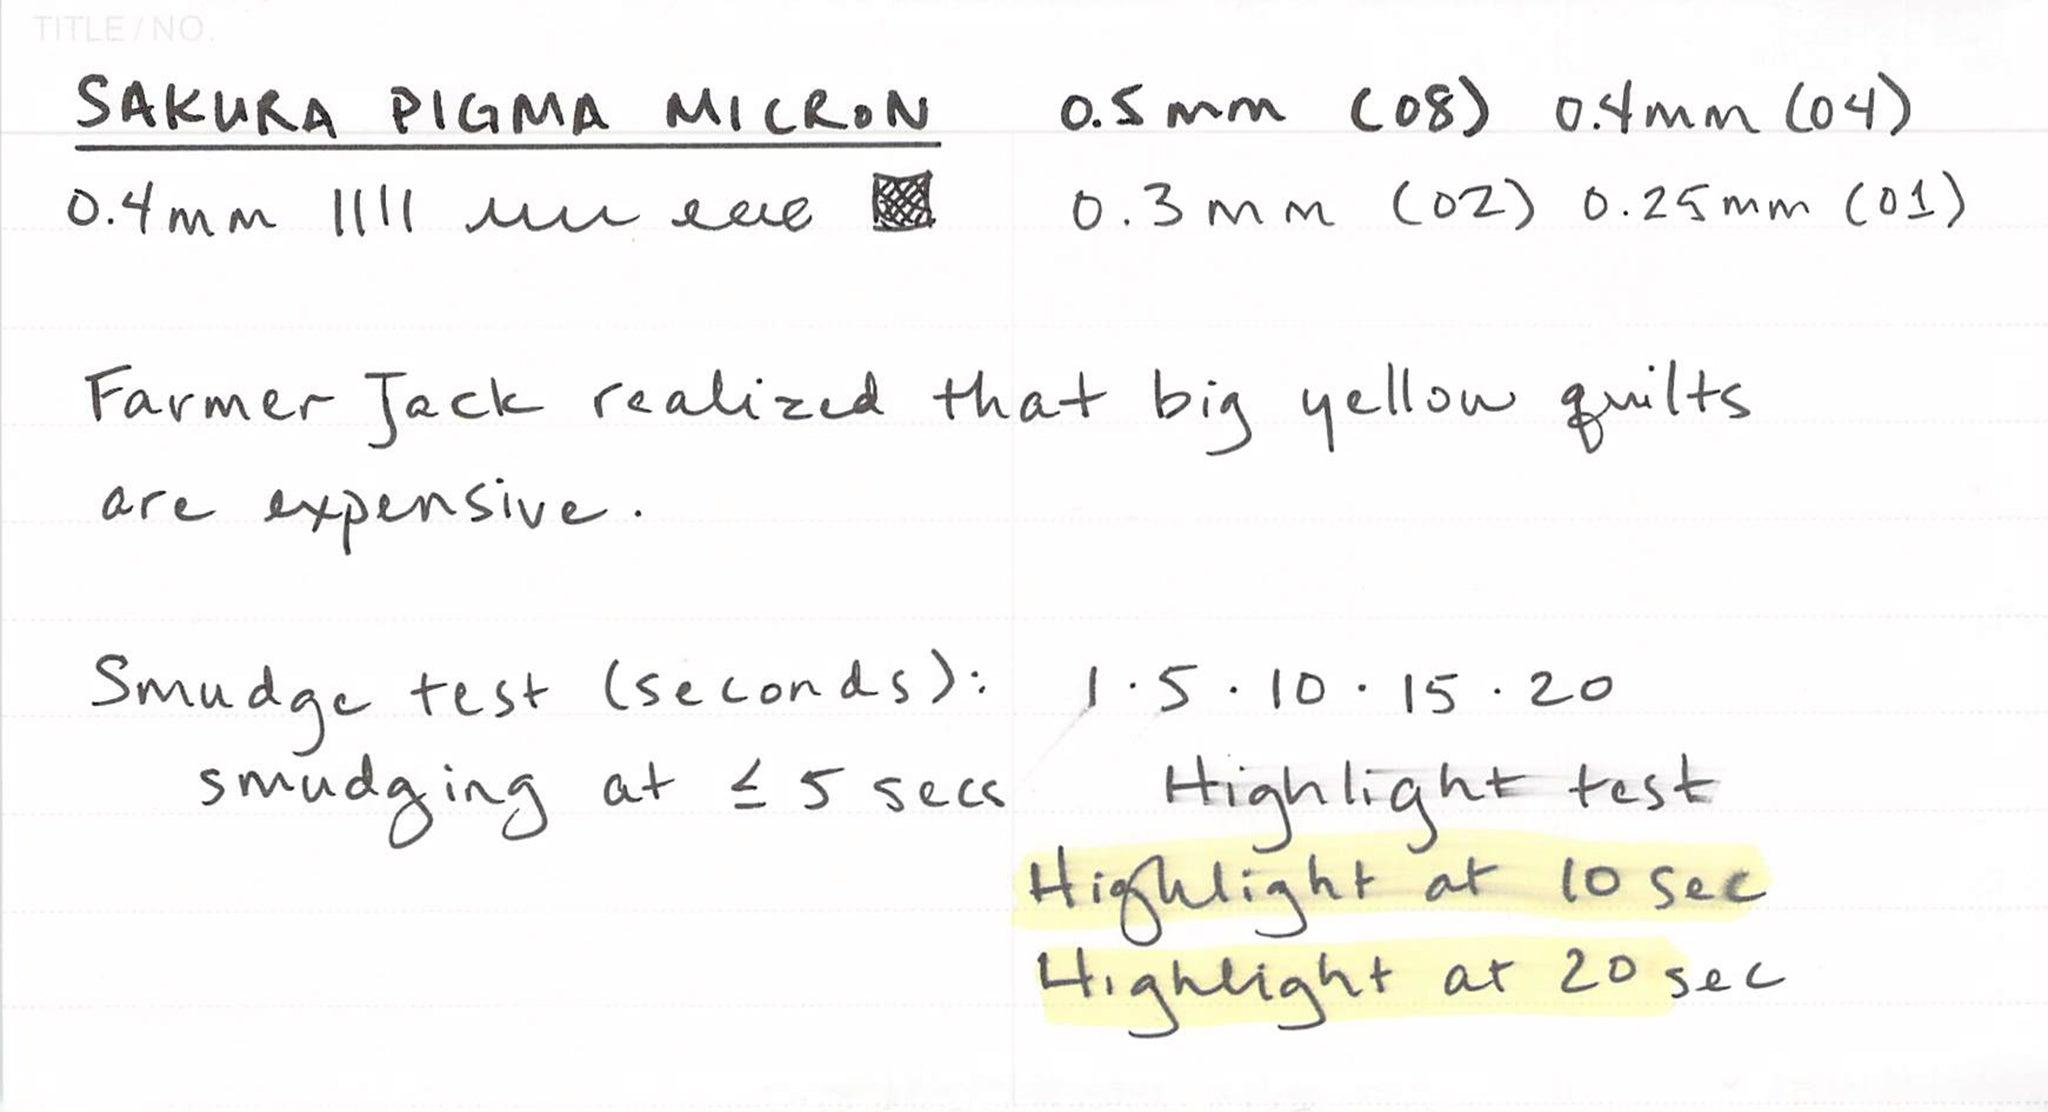text: (85, 640, 1620, 760), (74, 353, 1754, 460), (193, 749, 1732, 861), (1034, 944, 1789, 1045), (1021, 849, 1773, 949), (1054, 63, 1918, 145), (1069, 160, 1971, 238), (74, 67, 935, 138), (93, 471, 646, 561), (62, 175, 821, 240), (27, 7, 205, 48)
